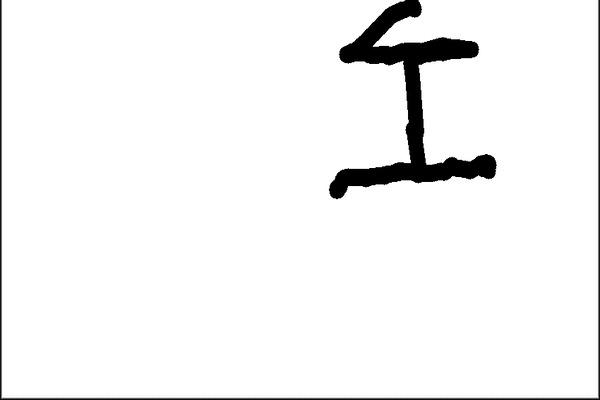i: (325, 0, 496, 192)
